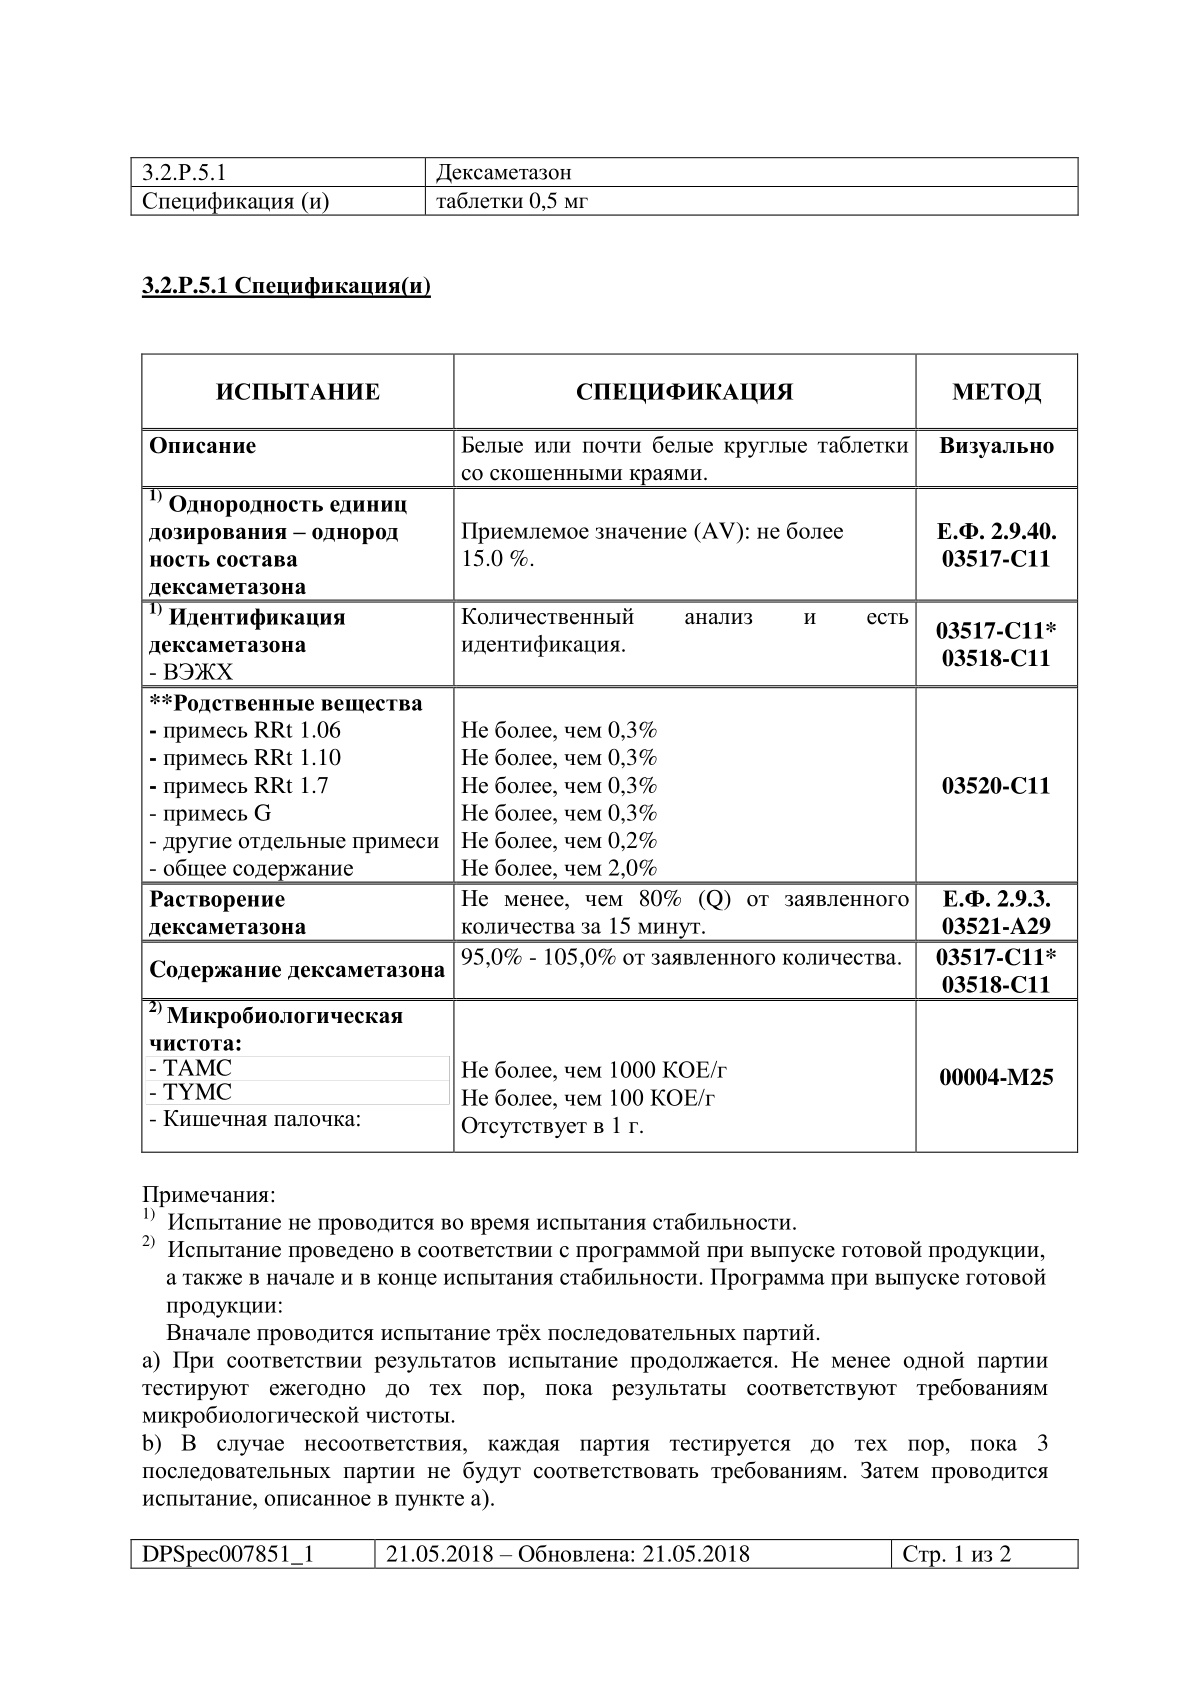full_lined: (140, 353, 1079, 1153), (130, 157, 1079, 217), (129, 1539, 1079, 1569)
